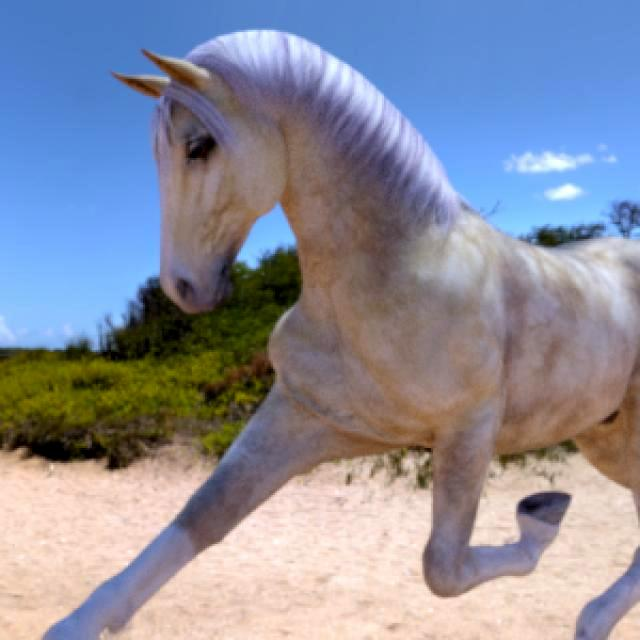horse: (44, 31, 640, 639)
